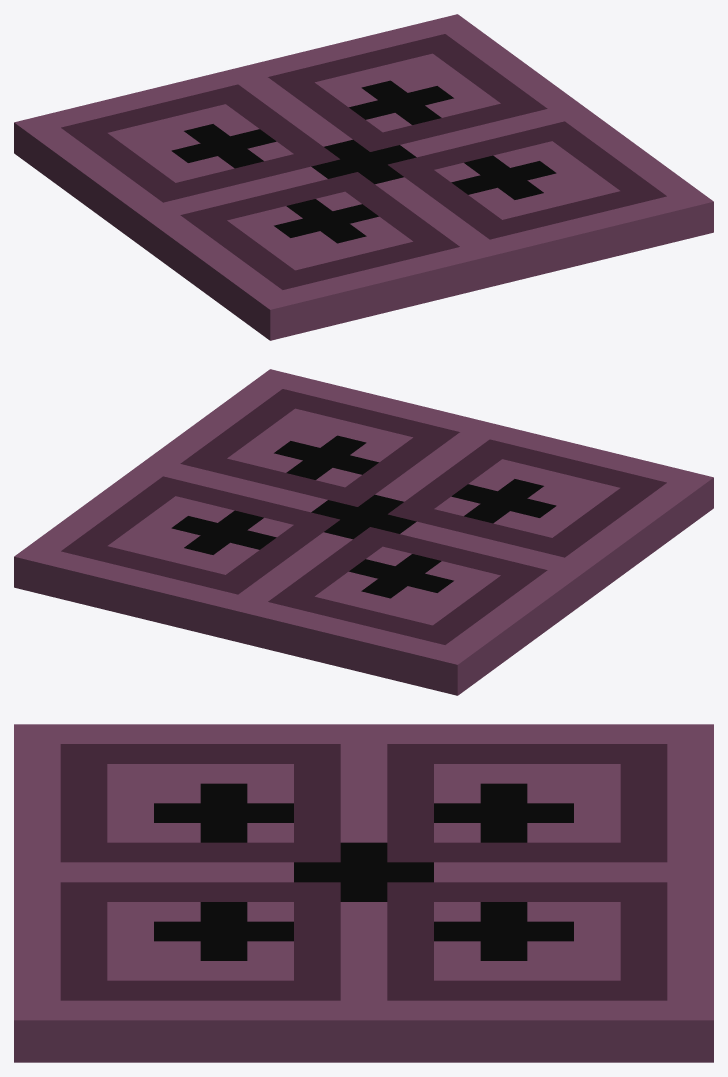
The model's file is dungeon_c_b_ground_c_b.obj.
3 views of the same model, one above another, from view 1: azimuth 30°, elevation 25°; view 2: azimuth 150°, elevation 25°; view 3: azimuth 270°, elevation 25° (orthographic). The views are drawn at different scales.
Size of the model in its own units: 1.5 by 0.1 by 1.5.
1 material, 1 textured.
